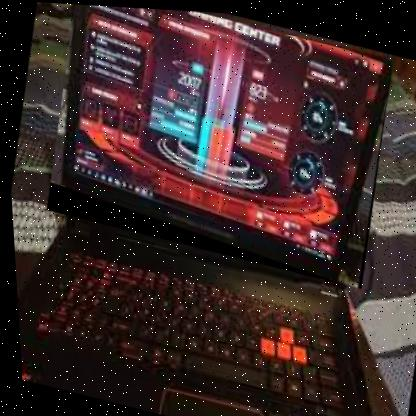Normal: (32, 1, 403, 288)
